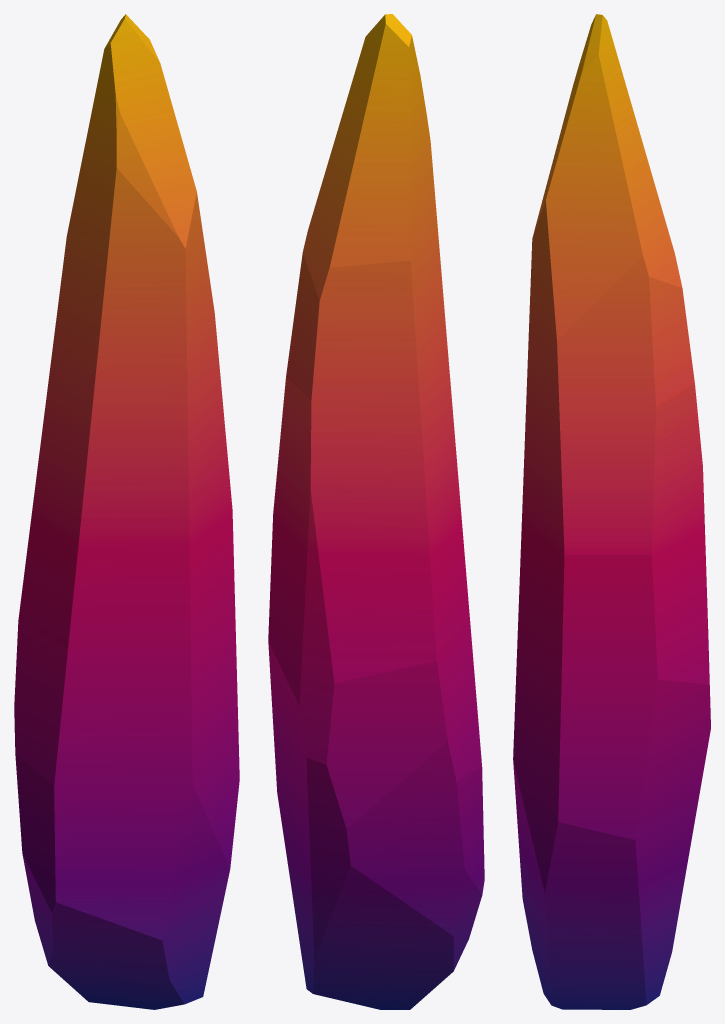
The model's file is cristales03.fbx.
3 views of the same model, side by side, from view 1: azimuth 30°, elevation 25°; view 2: azimuth 150°, elevation 25°; view 3: azimuth 270°, elevation 25° (orthographic).
Parts seen in each view (by area): view 1: cristal13; view 2: cristal13; view 3: cristal13.
Part boxes in pixels (left/top/right/bottom): cristal13: left=14, top=14, right=239, bottom=1009; cristal13: left=268, top=14, right=484, bottom=1009; cristal13: left=513, top=14, right=710, bottom=1009.
Bounding box in the file's own units: 448 × 2309 × 423.
1 material, 1 textured.
